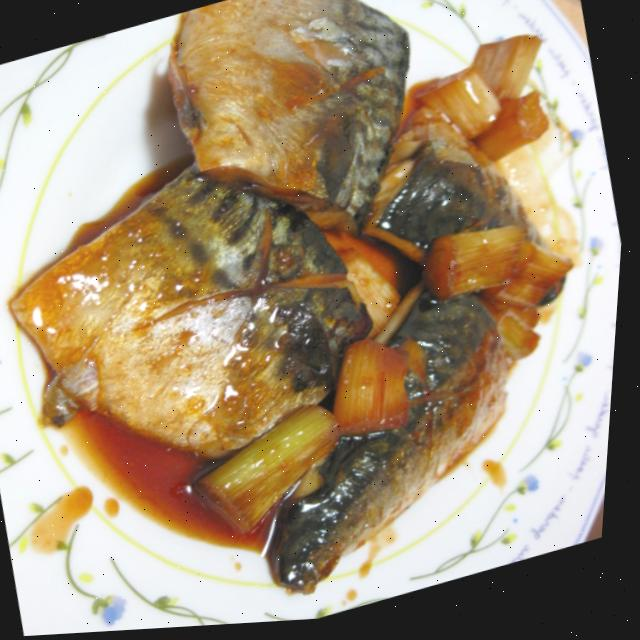熟制海鲜: (160, 94, 634, 606)
